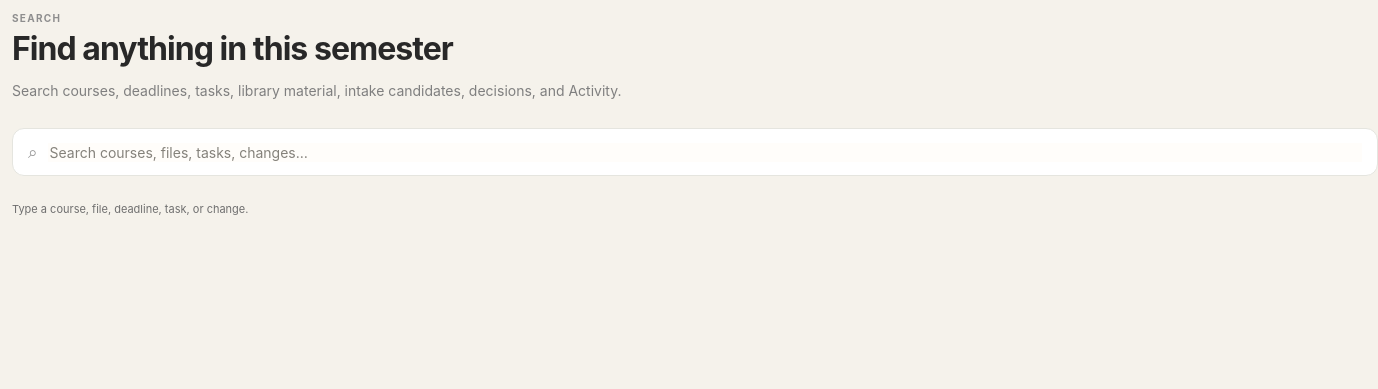
Test: SearchView › does not surface applied intake history as an action
In the field named "Search workspace": (705, 152) [48,143,1362,162], type "Old Applied Essay"
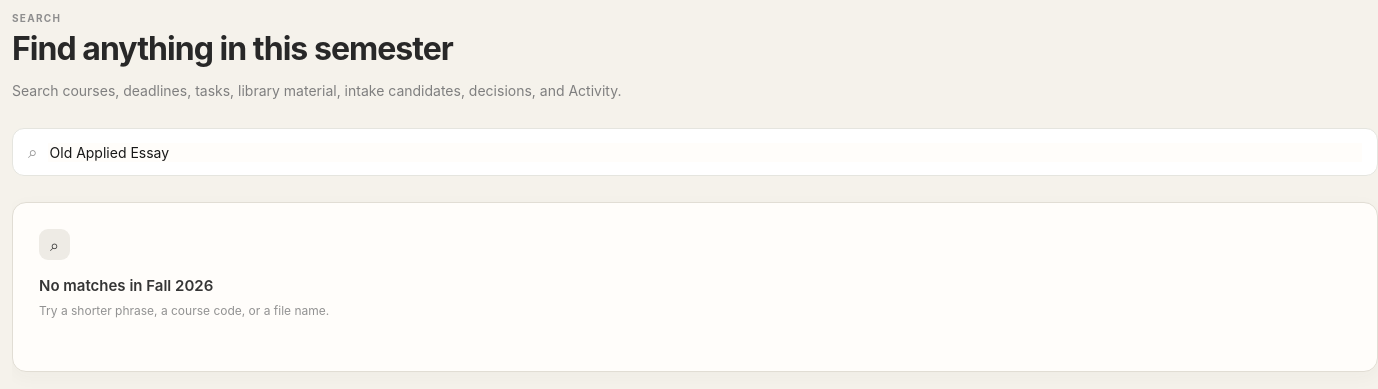
expect the heading "No matches in Fall 2026" is shown: met, box [39,276,213,295]
